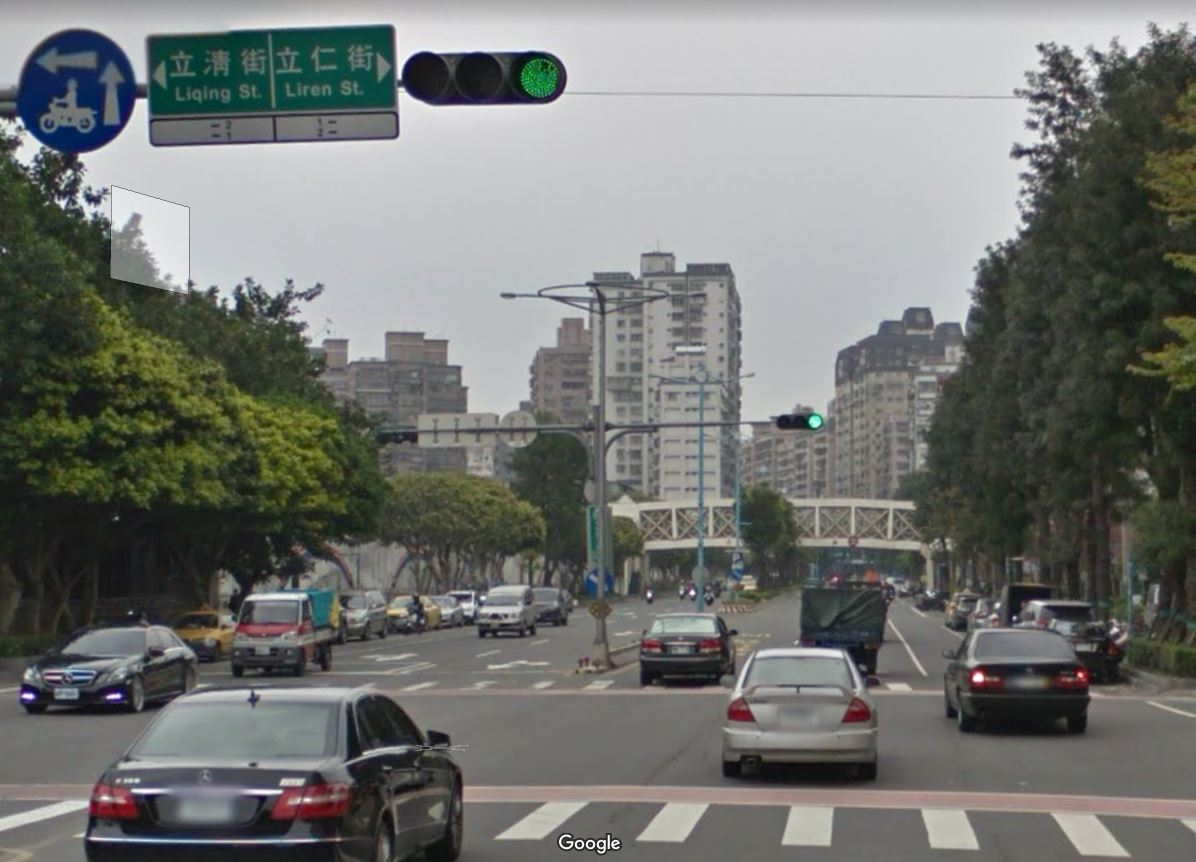Traffic_light_green: (401, 41, 569, 113), (774, 407, 826, 434)
car: (79, 687, 463, 862), (722, 645, 888, 777), (18, 605, 202, 716), (943, 625, 1093, 741), (639, 608, 744, 685)
